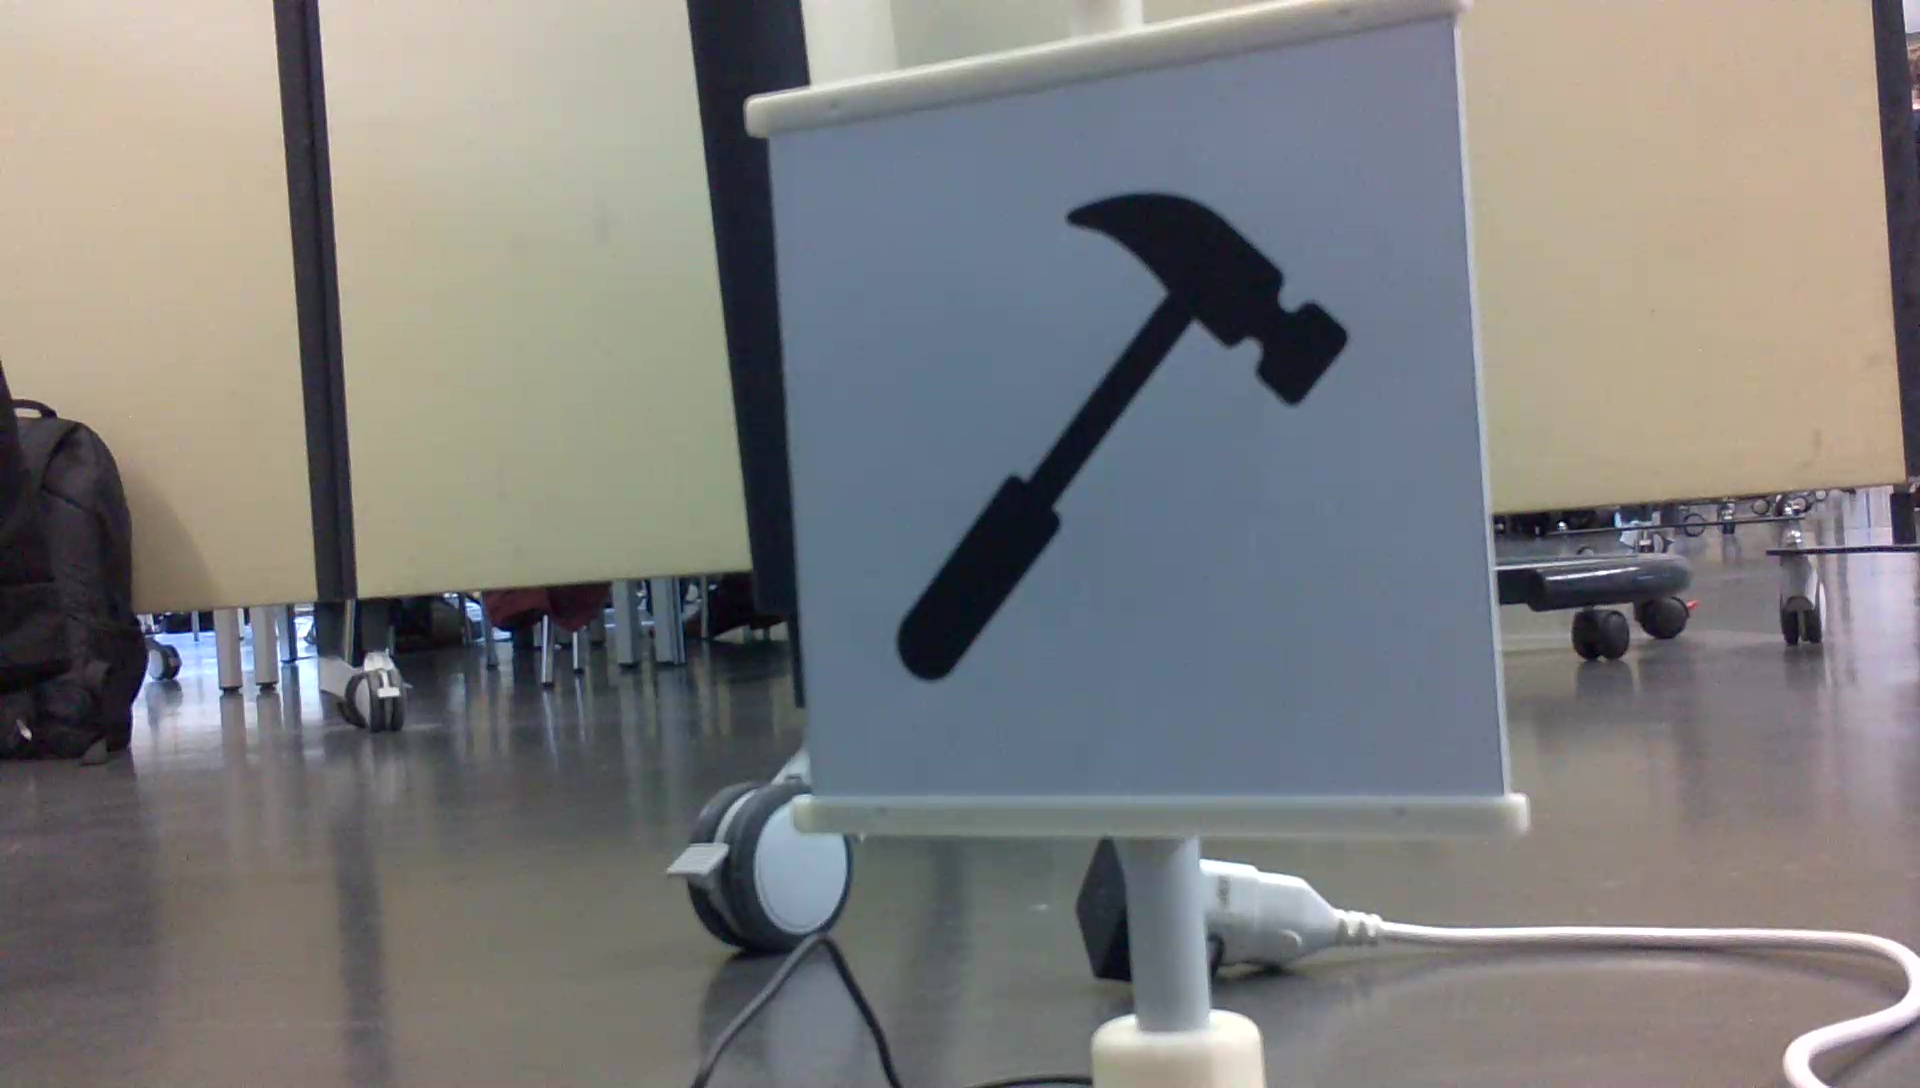hammer: (891, 186, 1356, 687)
